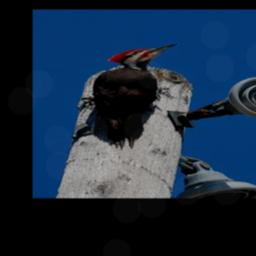Woodpecker: (71, 41, 185, 148)
